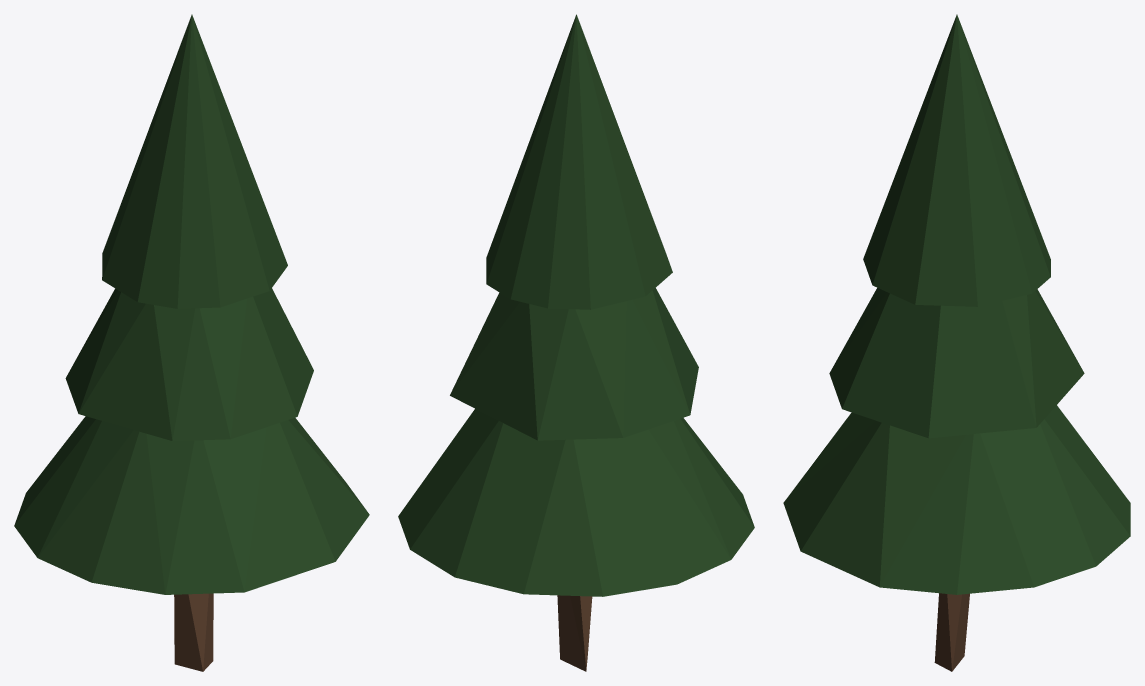
Rendered from PineTree.fbx.
3 views of the same model, side by side, from view 1: azimuth 30°, elevation 25°; view 2: azimuth 150°, elevation 25°; view 3: azimuth 270°, elevation 25° (orthographic).
Visible parts, largest first — view 1: PineTree; view 2: PineTree; view 3: PineTree.
Part boxes in pixels (bbox=[...]): PineTree: bbox=[14, 14, 369, 671]; PineTree: bbox=[398, 14, 754, 671]; PineTree: bbox=[783, 14, 1130, 671].
Size of the model in its own units: 508 by 1021 by 495.
